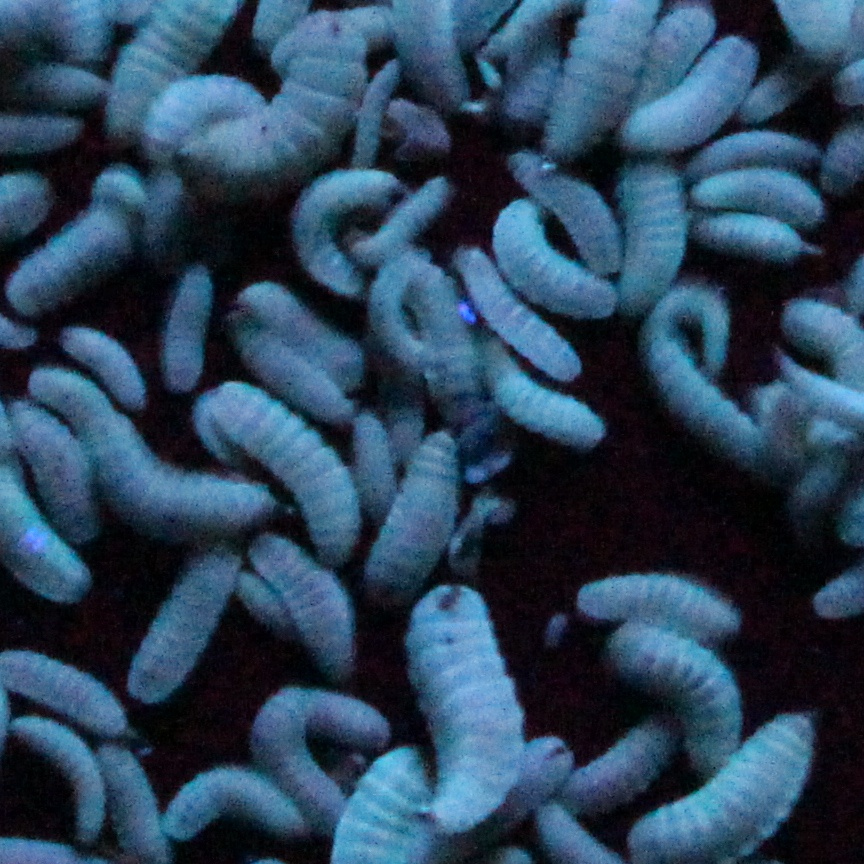larve: (37, 371, 282, 536), (214, 376, 373, 564), (176, 21, 363, 177), (404, 591, 523, 827), (616, 615, 747, 769), (238, 682, 391, 813), (132, 545, 244, 712), (618, 34, 757, 155), (487, 200, 623, 322), (254, 536, 361, 683), (378, 431, 465, 596), (232, 317, 359, 424), (471, 348, 607, 446), (288, 169, 390, 296), (568, 565, 742, 638), (9, 208, 135, 307), (11, 714, 106, 843), (244, 286, 361, 386), (617, 164, 688, 308), (166, 769, 302, 836), (692, 158, 825, 224), (356, 177, 452, 262), (690, 208, 814, 265), (63, 326, 145, 408), (163, 264, 214, 388)
